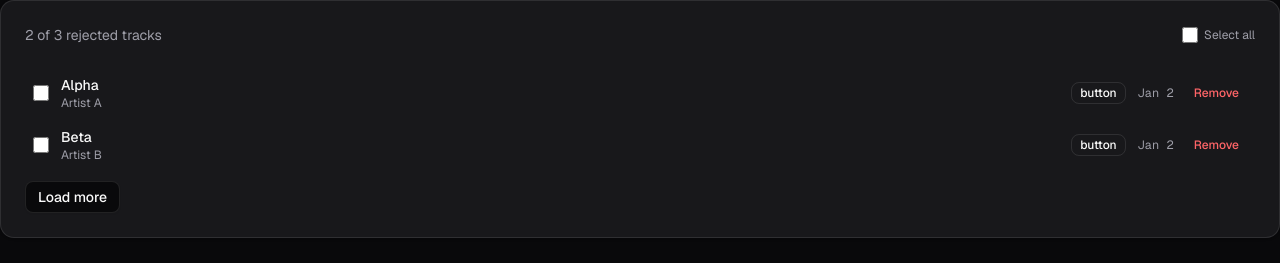
DislikesManager › appends the next page and drops "Load more" at the end
The image size is (1280, 263).
Click the button "Load more".
click(72, 197)  # box [25,181,120,213]
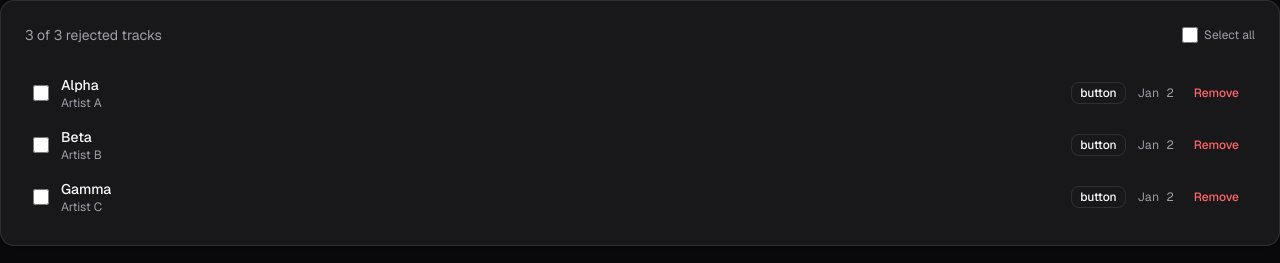
Result: the text "Gamma" is shown at [61,180,111,198]
Result: the text "3 of 3 rejected tracks" is shown at [25,25,162,45]
Result: the button "Load more" is gone
